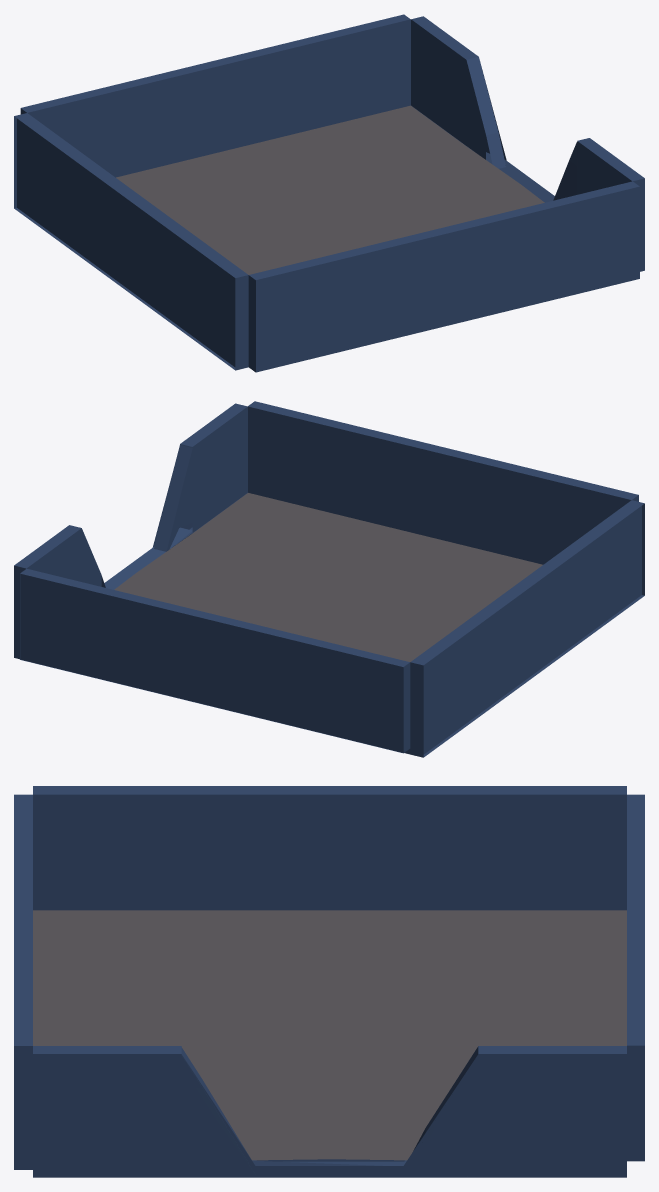
Rendered from BulletContainerModelHoleForBullets.fbx.
3 renders of one model, top to bottom at view 1: azimuth 30°, elevation 25°; view 2: azimuth 150°, elevation 25°; view 3: azimuth 270°, elevation 25°, orthographic. The views are drawn at different scales.
Parts seen in each view (by area): view 1: Cube; view 2: Cube; view 3: Cube.
Part boxes in pixels (x1,y1,x2,y2): Cube: (14,14,644,372); Cube: (14,401,644,757); Cube: (14,786,644,1177).
Bounding box in the file's own units: 214 × 46.04 × 213.
